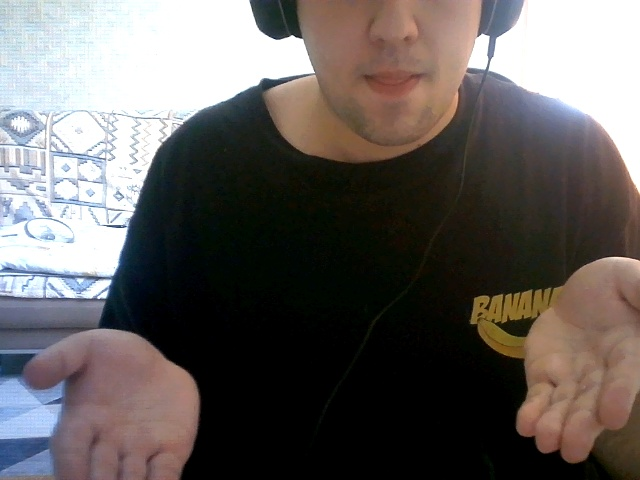hello: (23, 285, 640, 480)
